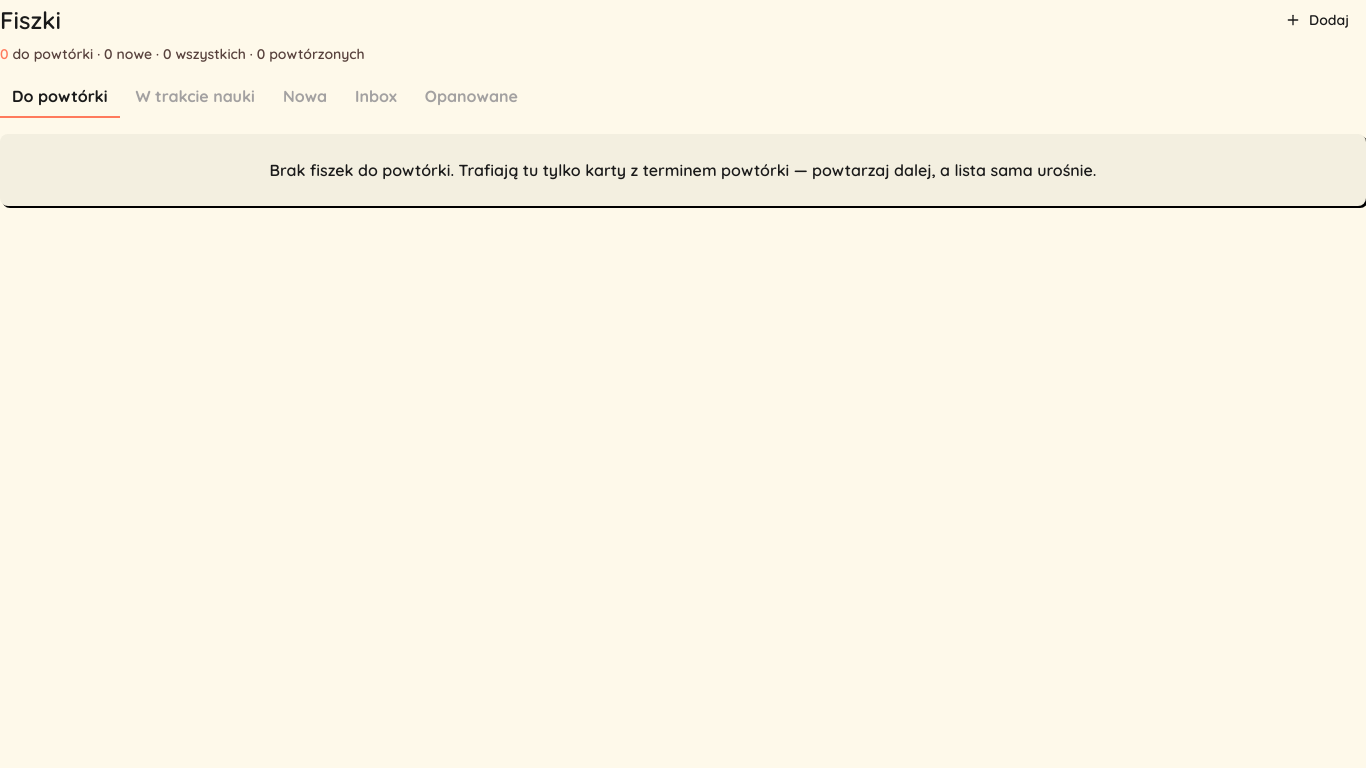
FlashcardsView › clicking Dodaj opens the add dialog
Expected: the field labelled "Front (PL)" is not shown
Click the button "Dodaj".
click(1317, 20)  # box [1268,0,1365,40]
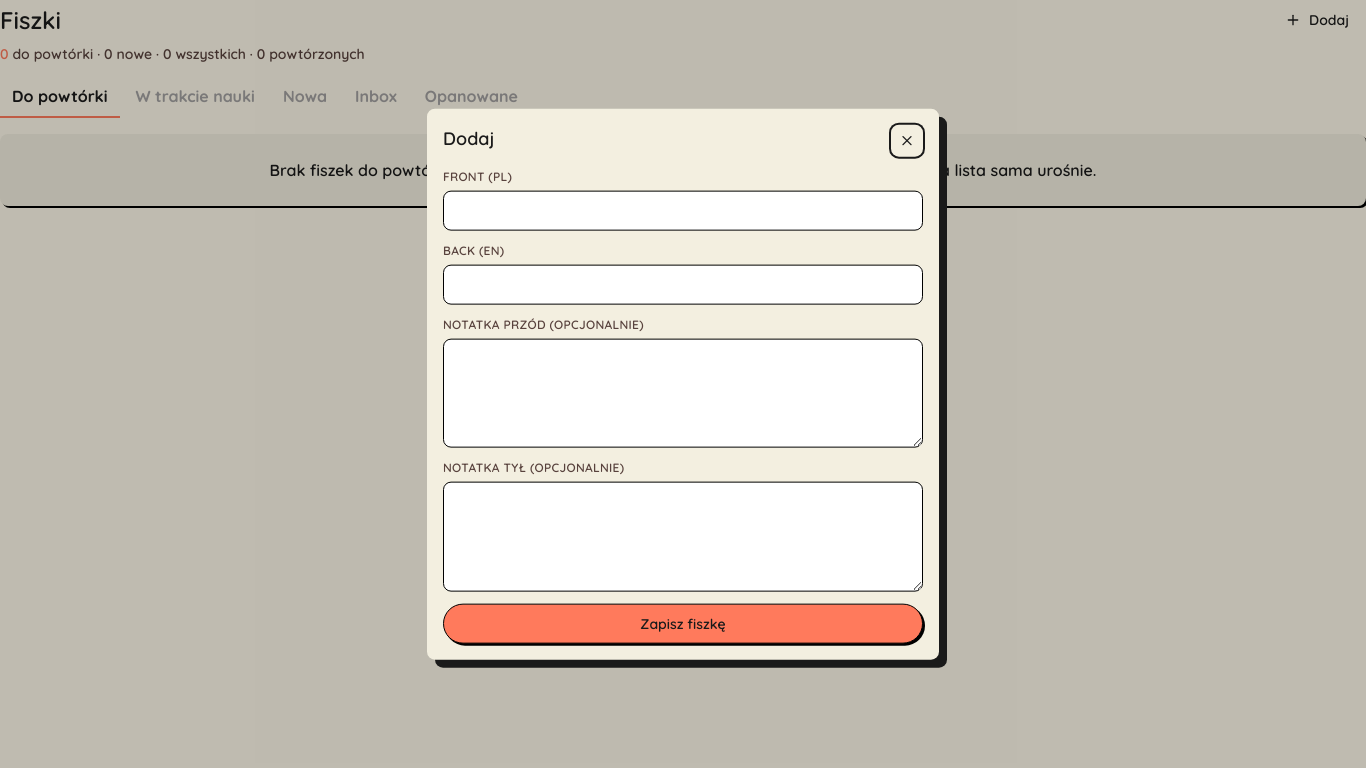
Now the field labelled "Front (PL)" is shown, box [443,191,923,231]
